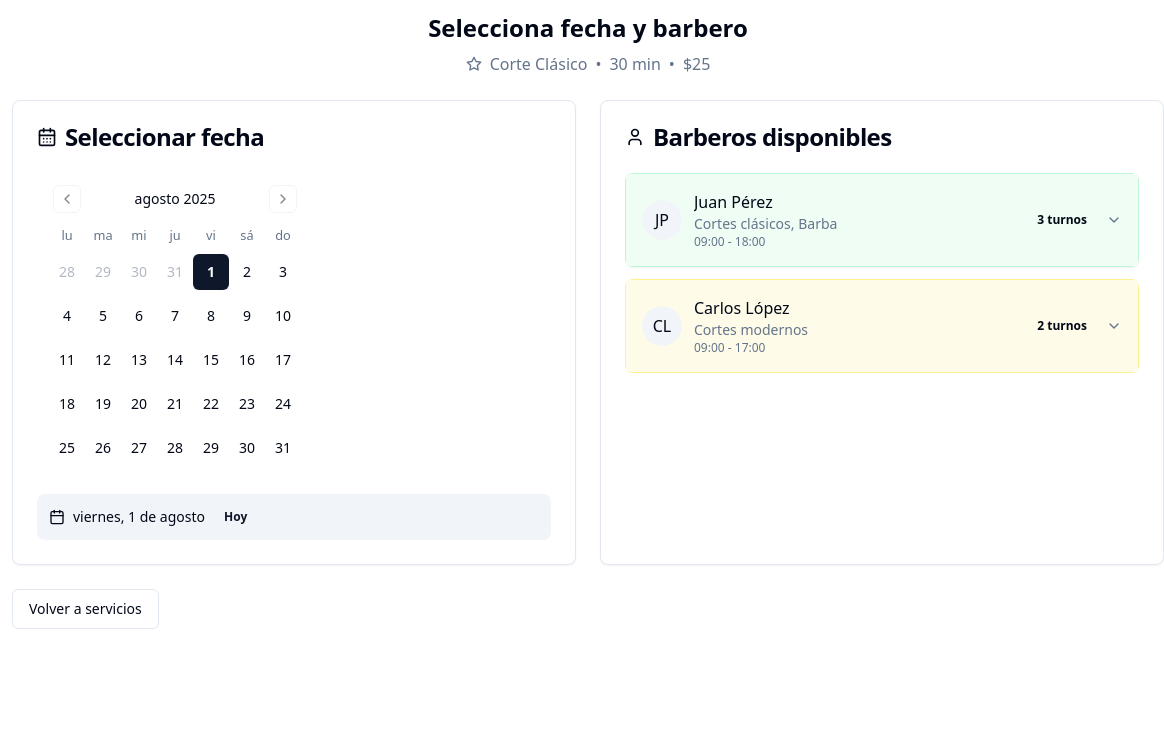
Test: DateBarberSelection › expands barber schedule when clicked
This screenshot has width=1164, height=732.
Check: the heading "Juan Pérez" is shown, box [694, 191, 773, 213]
Click the text "Juan Pérez": (882, 220) [626, 174, 1138, 266]
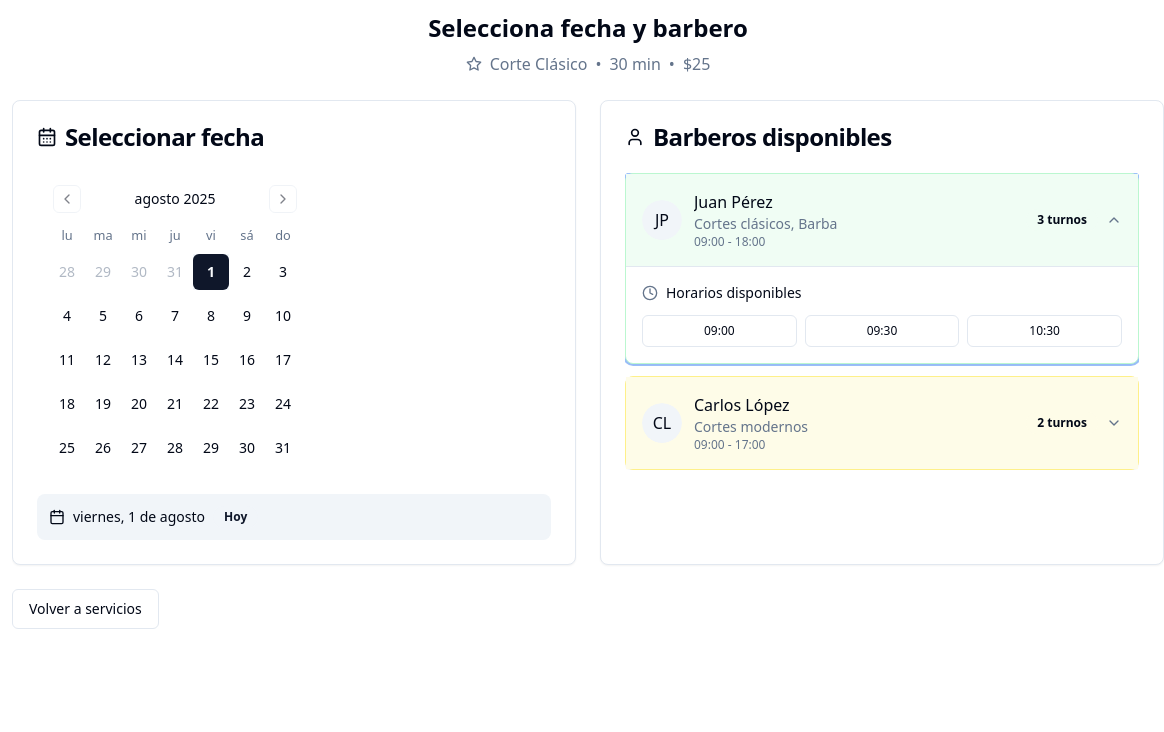
Check: the text "Horarios disponibles" is shown, box [666, 283, 802, 303]
